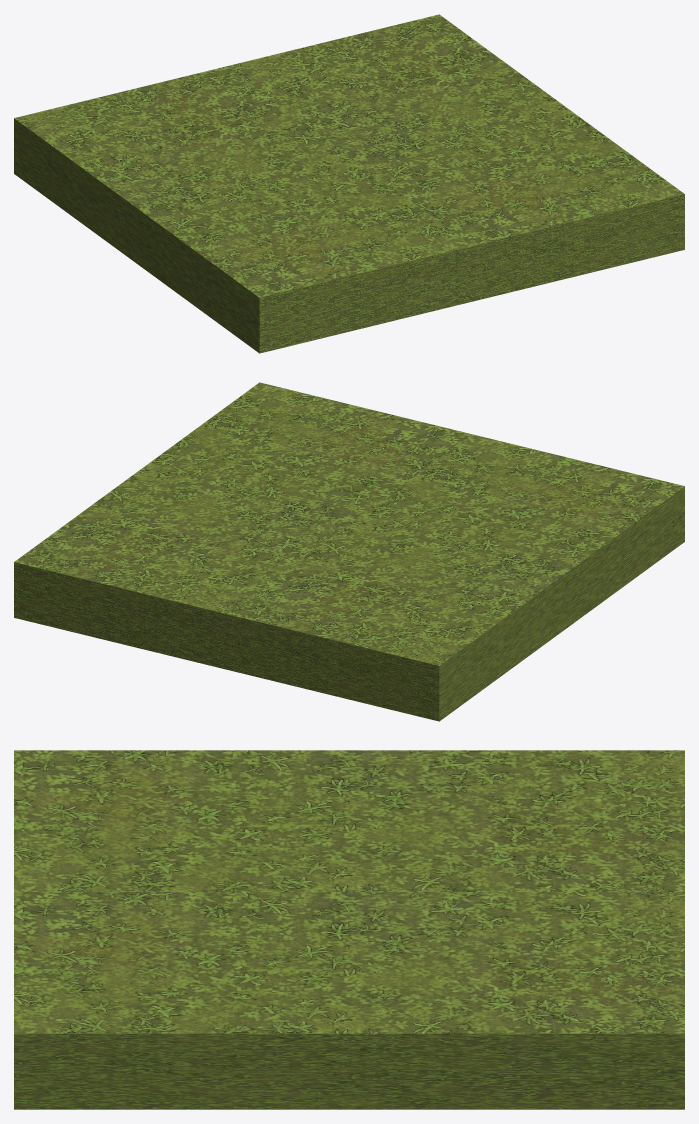
Rendered from ground_grass_01.fbx.
The picture shows the model from 3 angles, top to bottom: view 1: azimuth 30°, elevation 25°; view 2: azimuth 150°, elevation 25°; view 3: azimuth 270°, elevation 25°; orthographic projection. The views are drawn at different scales.
Parts seen in each view (by area): view 1: 4x4 Grass Floor; view 2: 4x4 Grass Floor; view 3: 4x4 Grass Floor.
Part boxes in pixels (<box>): 4x4 Grass Floor: <box>14,14,684,353</box>; 4x4 Grass Floor: <box>14,382,684,721</box>; 4x4 Grass Floor: <box>14,750,684,1109</box>.
Bounding box in the file's own units: 400 × 50 × 400.
1 material, 1 textured.
